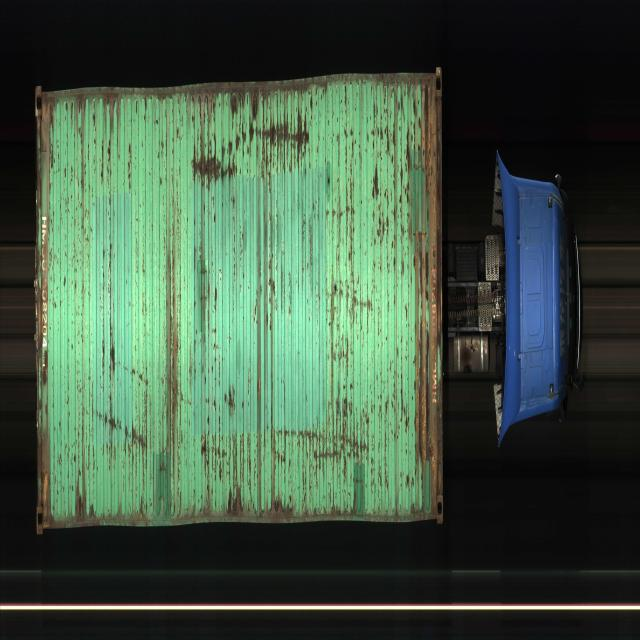rust: (430, 71, 444, 521), (274, 418, 371, 471), (331, 204, 360, 369), (415, 230, 431, 466), (166, 234, 182, 440), (261, 118, 311, 173), (39, 89, 56, 227), (101, 407, 147, 453), (191, 139, 235, 186), (229, 437, 253, 515), (39, 405, 53, 531), (37, 257, 50, 392), (231, 88, 259, 150), (204, 424, 225, 496), (76, 465, 95, 524), (421, 79, 432, 176), (102, 92, 123, 131), (268, 250, 278, 330), (273, 488, 298, 520), (108, 298, 117, 385), (80, 142, 88, 222), (224, 380, 238, 417)
